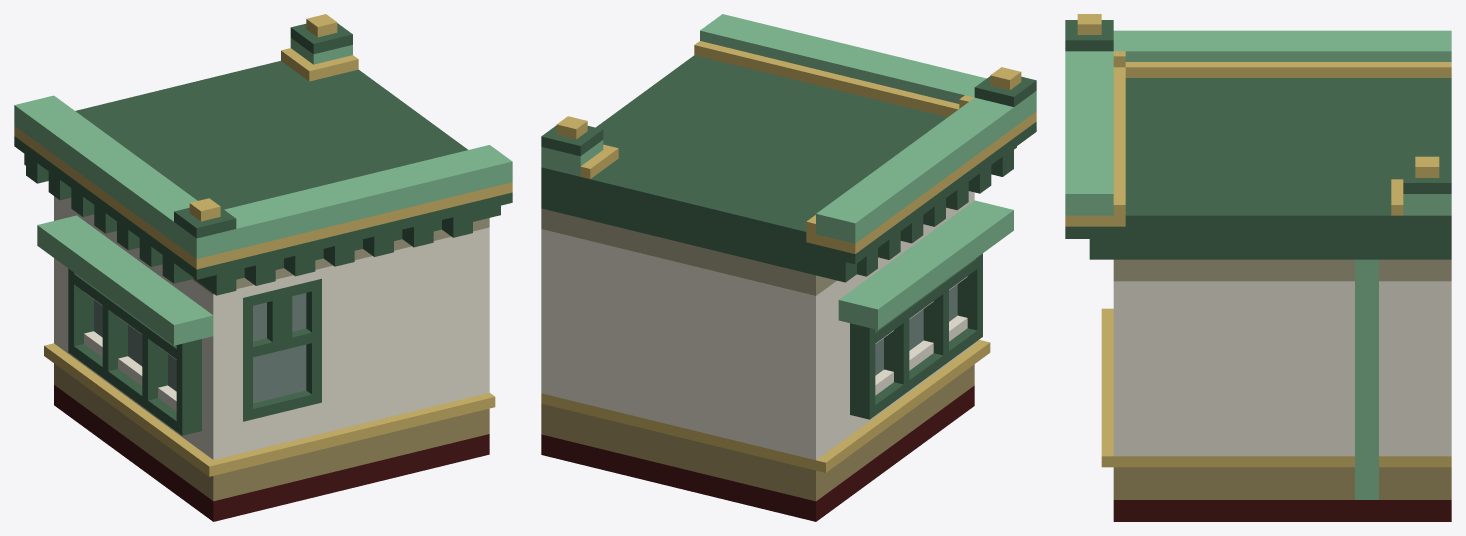
File: tile_1_right_nb_corner.obj
3 renders of one model, left to right at view 1: azimuth 30°, elevation 25°; view 2: azimuth 150°, elevation 25°; view 3: azimuth 270°, elevation 25°, orthographic. The views are drawn at different scales.
Bounding box in the file's own units: 3.2 × 3.2 × 3.2.
